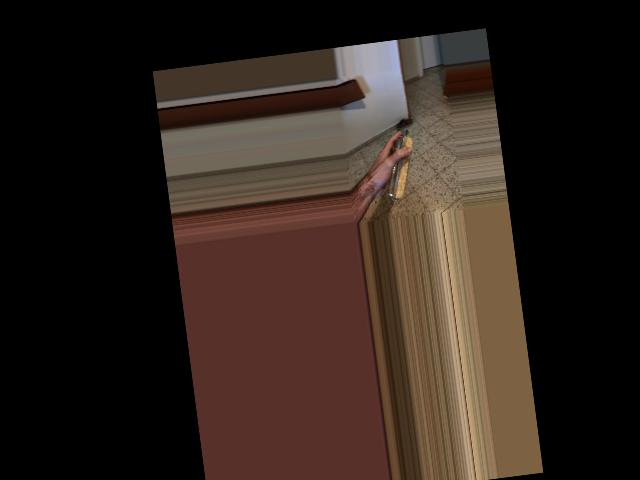cheese: (362, 124, 427, 196)
